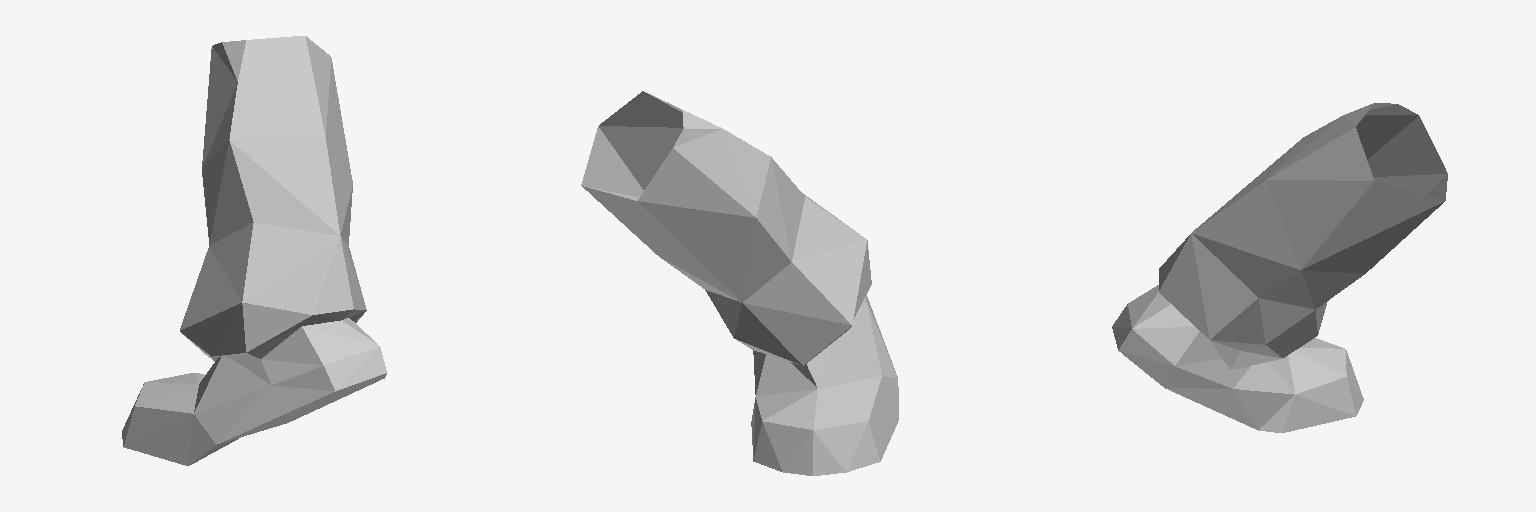
The model's file is zIzqEntre.obj.
The picture shows the model from 3 angles: view 1: azimuth 30°, elevation 25°; view 2: azimuth 150°, elevation 25°; view 3: azimuth 270°, elevation 25°; orthographic projection.
Parts seen in each view (by area): view 1: Entrenador.006_trainer_body; view 2: Entrenador.006_trainer_body; view 3: Entrenador.006_trainer_body.
Boxes of the visible parts, box(x1,y1,x2,y2) form: Entrenador.006_trainer_body: box(122, 36, 386, 465); Entrenador.006_trainer_body: box(581, 91, 898, 475); Entrenador.006_trainer_body: box(1112, 103, 1447, 432).
Size of the model in its own units: 10.07 by 13.49 by 11.96.